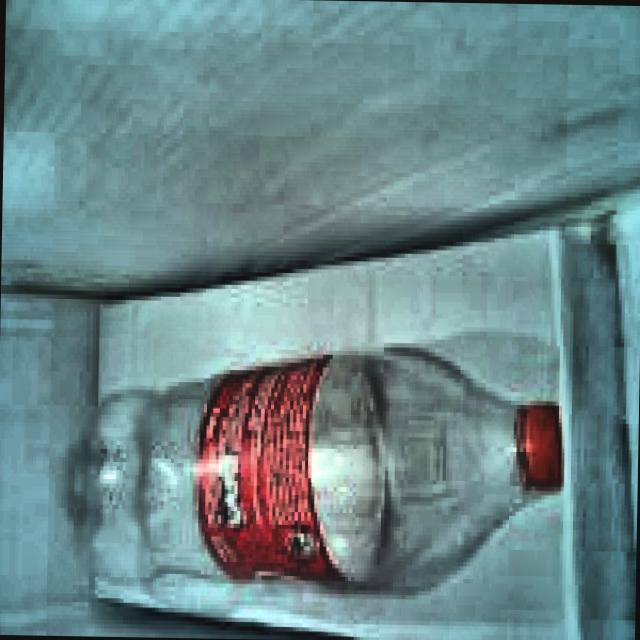plastic bottle: (65, 354, 564, 587)
